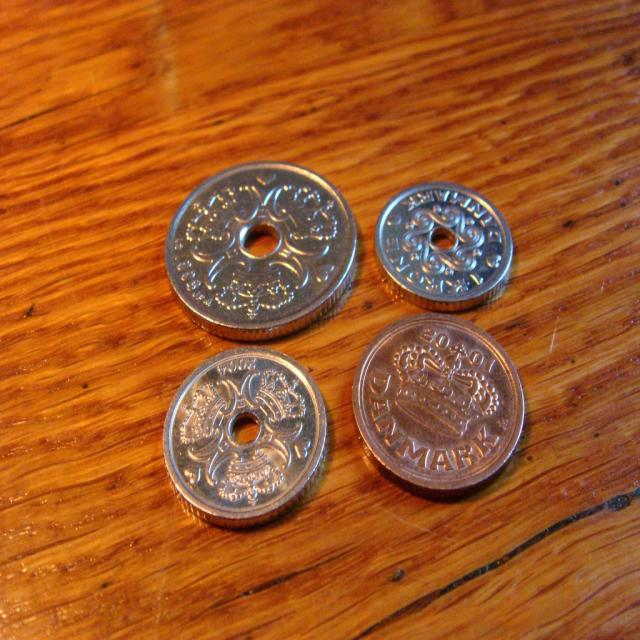Coin: (162, 157, 366, 331), (354, 314, 522, 496), (164, 344, 329, 527), (376, 178, 519, 308)
